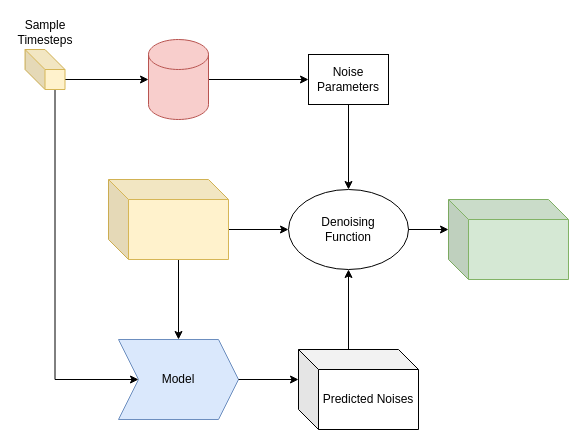
Image size: 586x447. Some labels were removed from this diagram. Here are the shapes that lost their labels. From the top down, the centre of each, then its label:
At point 178,79: "Noise Schedule".
At point 168,219: "Gaussian Noises".
At point 508,239: "New Images".
